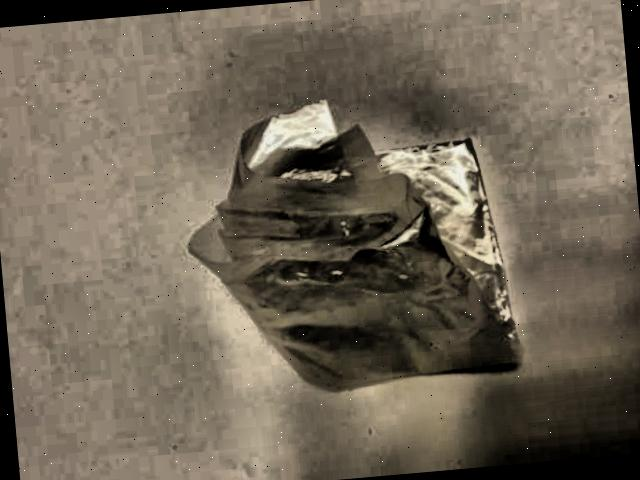Plastic: (152, 69, 543, 432)
